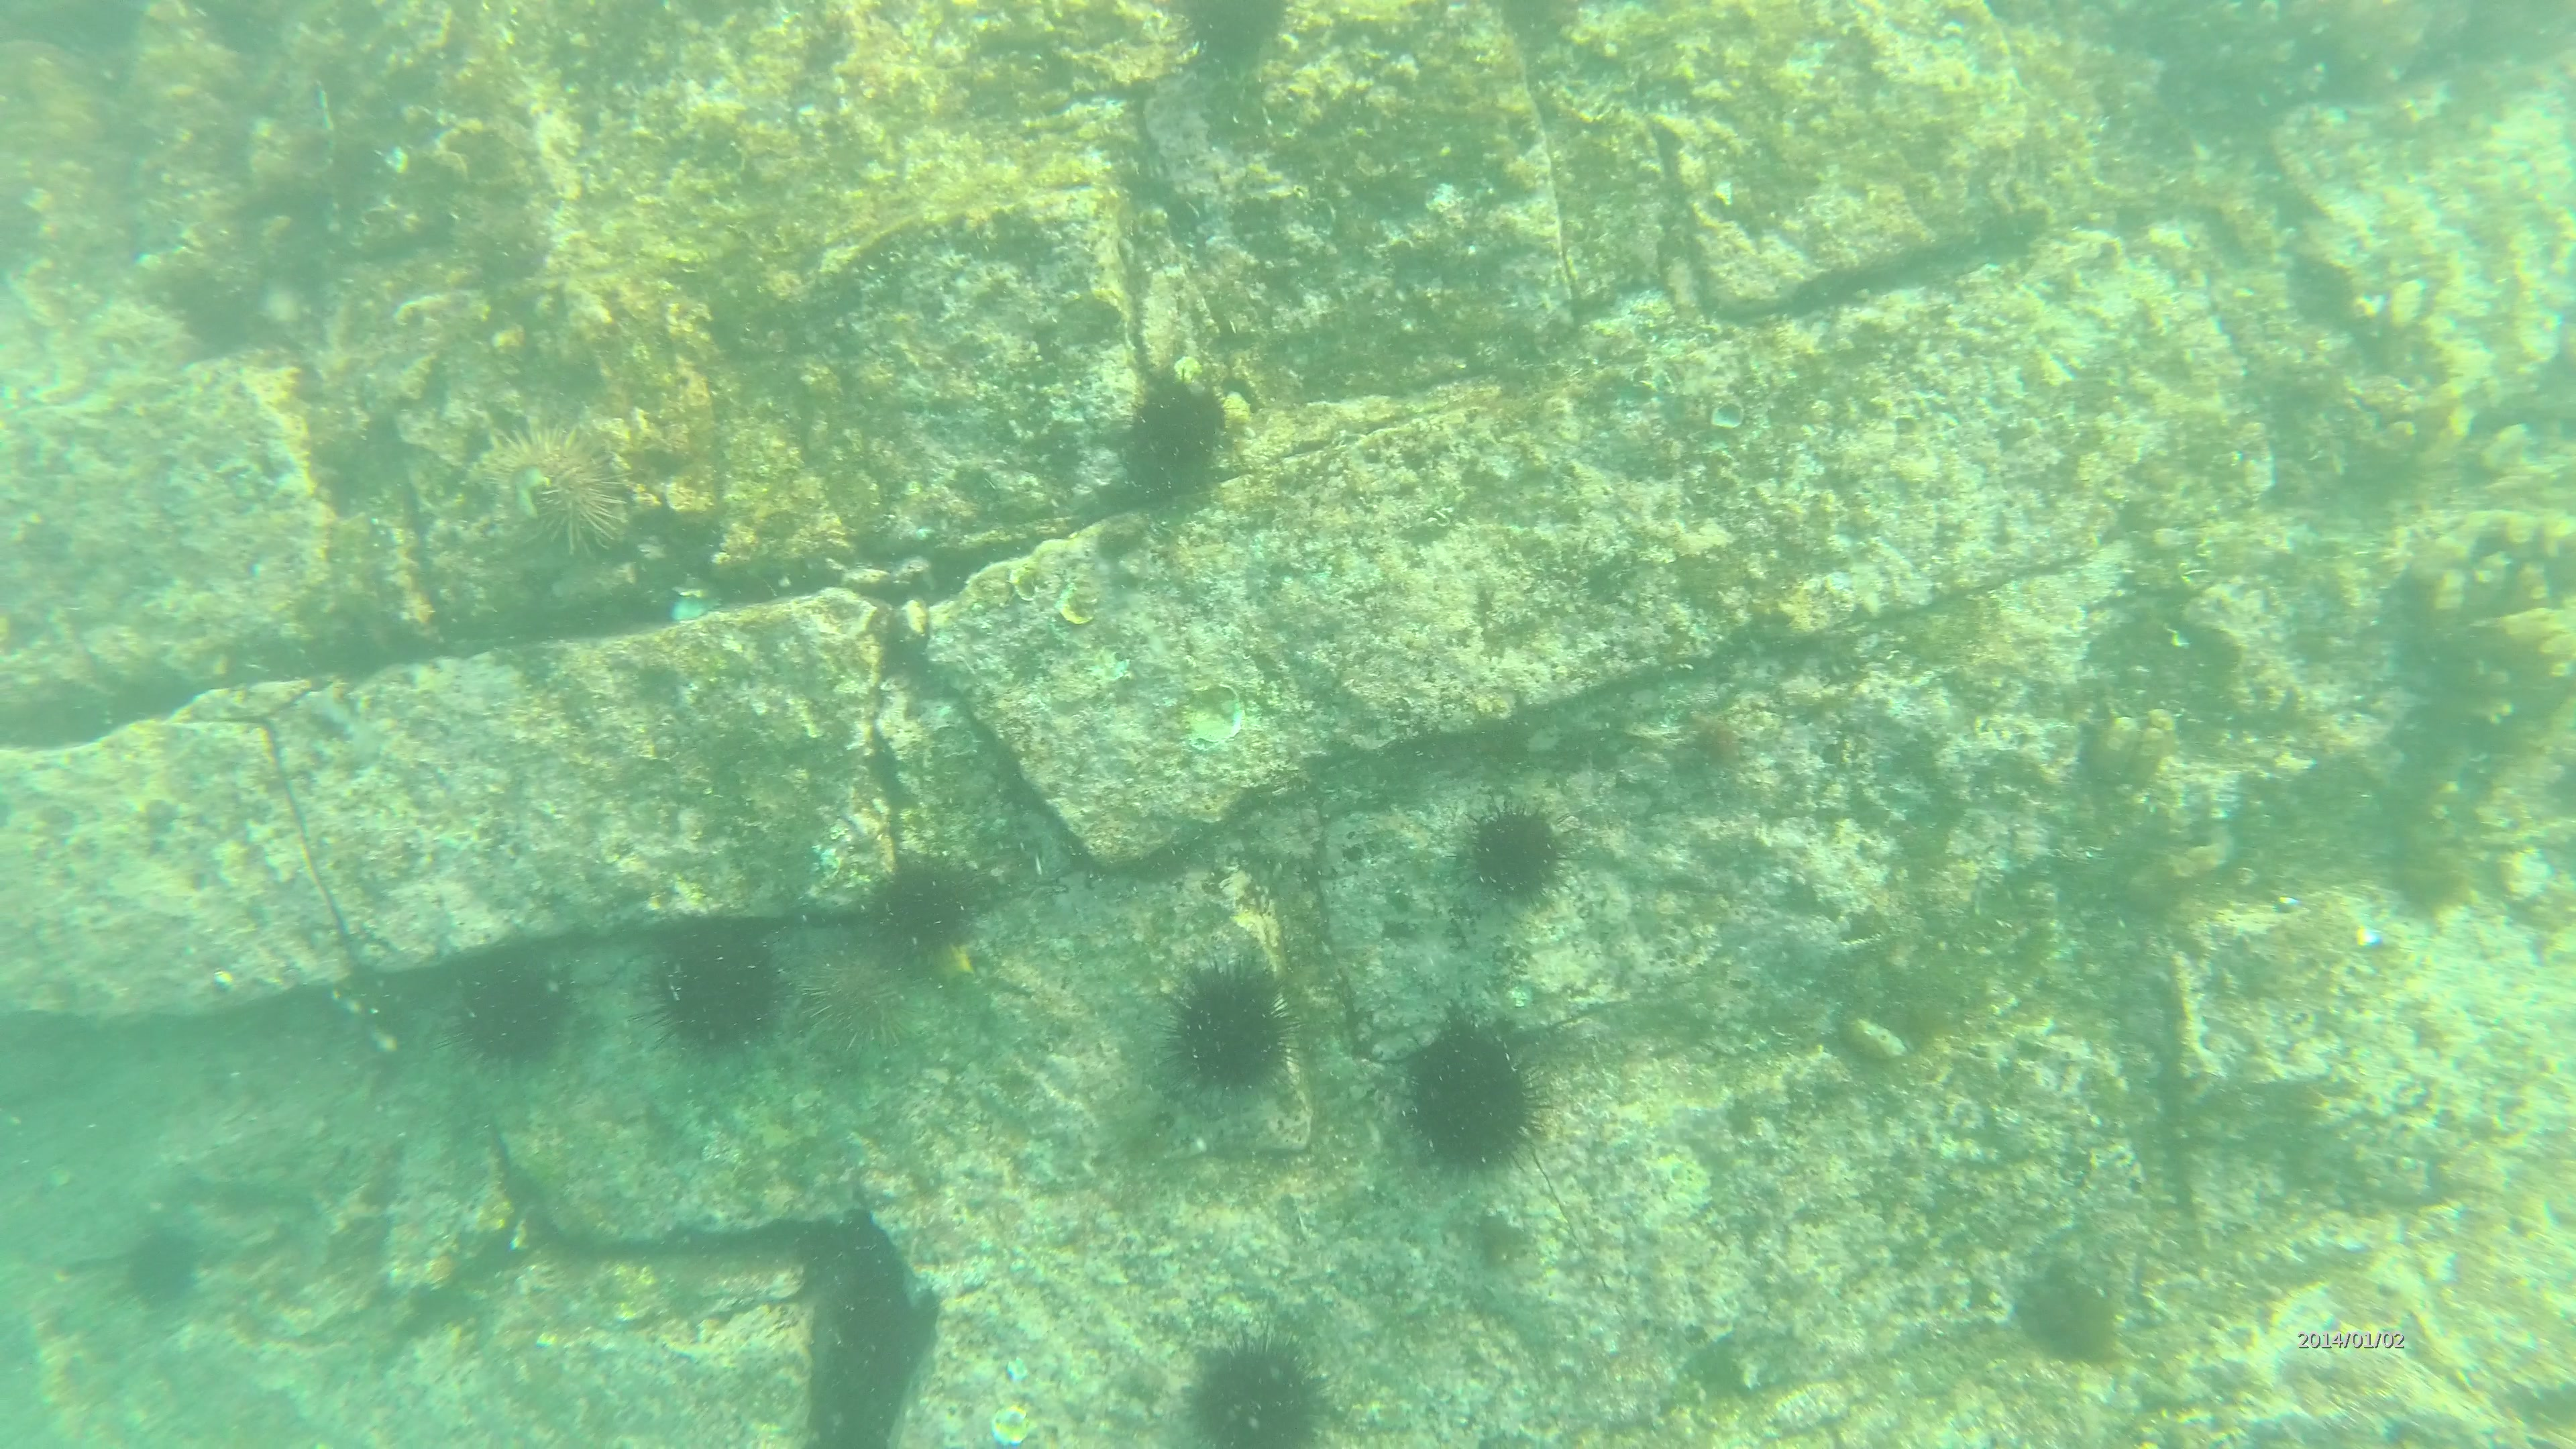echinus: (1414, 1017, 1545, 1155), (1120, 380, 1237, 511), (1184, 1316, 1299, 1440), (1161, 977, 1293, 1077), (870, 860, 985, 966), (449, 970, 545, 1081), (651, 936, 748, 1035), (1468, 816, 1583, 897), (2022, 1277, 2127, 1355), (126, 1231, 200, 1311)
